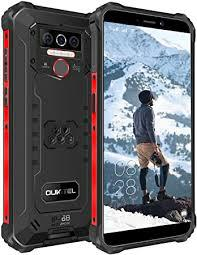Smartphone: (96, 2, 197, 246), (6, 1, 94, 243)
